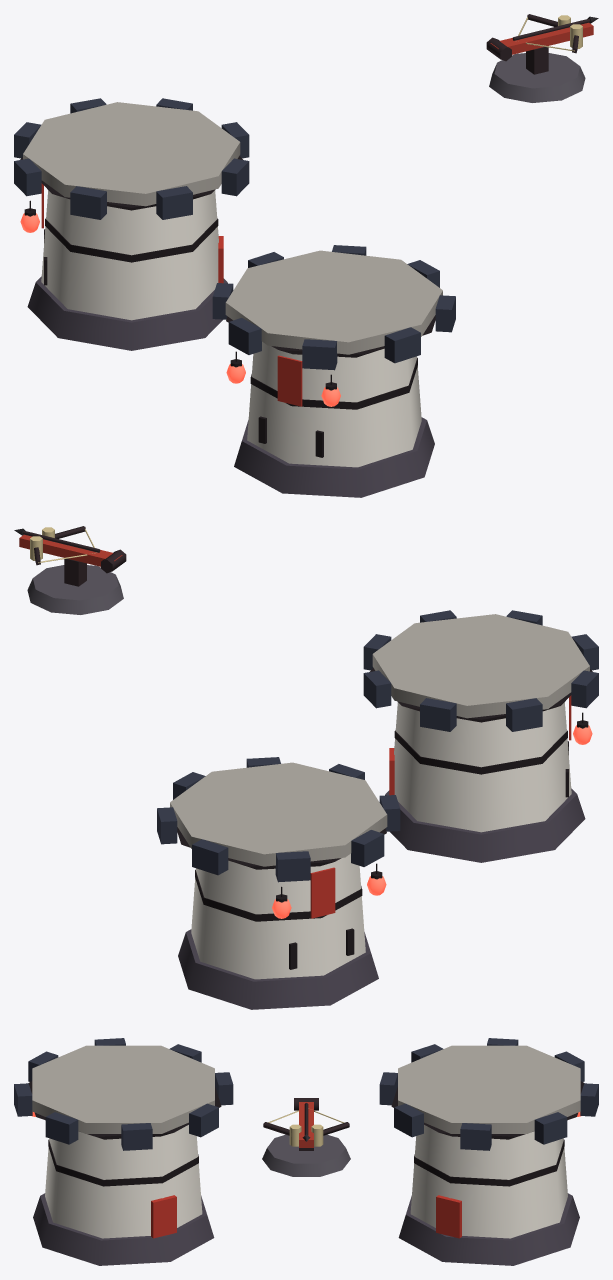
The model's file is base_standard_weapon_2.glb.
3 renders of one model, top to bottom at view 1: azimuth 30°, elevation 25°; view 2: azimuth 150°, elevation 25°; view 3: azimuth 270°, elevation 25°, orthographic. The views are drawn at different scales.
Parts seen in each view (by area): view 1: tower_slot_1_tower, tower_slot_2_plate, tower_slot_1_plate, tower_slot_2_tower, tower_slot_2_footing, tower_slot_1_footing, weapon_mount, tower_slot_1_band, tower_slot_2_banner, tower_slot_2_band, tower_slot_1_merlon_6, tower_slot_2_merlon_6 (+7 smaller); view 2: tower_slot_2_tower, tower_slot_1_plate, tower_slot_2_plate, tower_slot_1_tower, tower_slot_1_footing, tower_slot_2_footing, weapon_mount, tower_slot_2_band, tower_slot_1_banner, tower_slot_1_band, tower_slot_1_merlon_1, tower_slot_2_merlon_1 (+7 smaller); view 3: tower_slot_1_plate, tower_slot_2_plate, tower_slot_1_tower, tower_slot_2_tower, tower_slot_1_footing, tower_slot_2_footing, weapon_mount, tower_slot_1_band, tower_slot_2_band, tower_slot_1_door, tower_slot_2_door, tower_slot_1_merlon_2 (+14 smaller).
Boxes of the visible parts, left/top/right/bottom form: tower_slot_1_tower: left=41, top=190, right=218, bottom=320; tower_slot_2_plate: left=225, top=250, right=442, bottom=354; tower_slot_1_plate: left=23, top=102, right=240, bottom=206; tower_slot_2_tower: left=247, top=341, right=421, bottom=467; tower_slot_2_footing: left=234, top=417, right=434, bottom=497; tower_slot_1_footing: left=27, top=276, right=227, bottom=350; weapon_mount: left=489, top=53, right=585, bottom=102; tower_slot_1_band: left=45, top=218, right=218, bottom=262; tower_slot_2_banner: left=277, top=355, right=302, bottom=406; tower_slot_2_band: left=250, top=358, right=417, bottom=409; tower_slot_1_merlon_6: left=70, top=186, right=106, bottom=219; tower_slot_2_merlon_6: left=384, top=327, right=420, bottom=363; tower_slot_2_tower: left=394, top=702, right=571, bottom=832; tower_slot_1_plate: left=170, top=762, right=387, bottom=866; tower_slot_2_plate: left=372, top=614, right=589, bottom=718; tower_slot_1_tower: left=191, top=853, right=365, bottom=979; tower_slot_1_footing: left=178, top=929, right=378, bottom=1009; tower_slot_2_footing: left=385, top=788, right=585, bottom=862; weapon_mount: left=27, top=565, right=123, bottom=614; tower_slot_2_band: left=394, top=730, right=567, bottom=774; tower_slot_1_banner: left=310, top=867, right=335, bottom=918; tower_slot_1_band: left=195, top=870, right=362, bottom=921; tower_slot_1_merlon_1: left=192, top=839, right=228, bottom=875; tower_slot_2_merlon_1: left=506, top=698, right=542, bottom=731; tower_slot_1_plate: left=398, top=1045, right=580, bottom=1133; tower_slot_2_plate: left=32, top=1045, right=214, bottom=1133; tower_slot_1_tower: left=410, top=1125, right=567, bottom=1238; tower_slot_2_tower: left=45, top=1125, right=202, bottom=1238; tower_slot_1_footing: left=398, top=1193, right=579, bottom=1265; tower_slot_2_footing: left=33, top=1193, right=214, bottom=1265; weapon_mount: left=262, top=1134, right=350, bottom=1176; tower_slot_1_band: left=414, top=1139, right=564, bottom=1186; tower_slot_2_band: left=48, top=1139, right=198, bottom=1186; tower_slot_1_door: left=436, top=1195, right=461, bottom=1238; tower_slot_2_door: left=151, top=1195, right=176, bottom=1238; tower_slot_1_merlon_2: left=534, top=1112, right=567, bottom=1144.
Size of the model in its own units: 0.9968 by 0.559 by 1.18.
